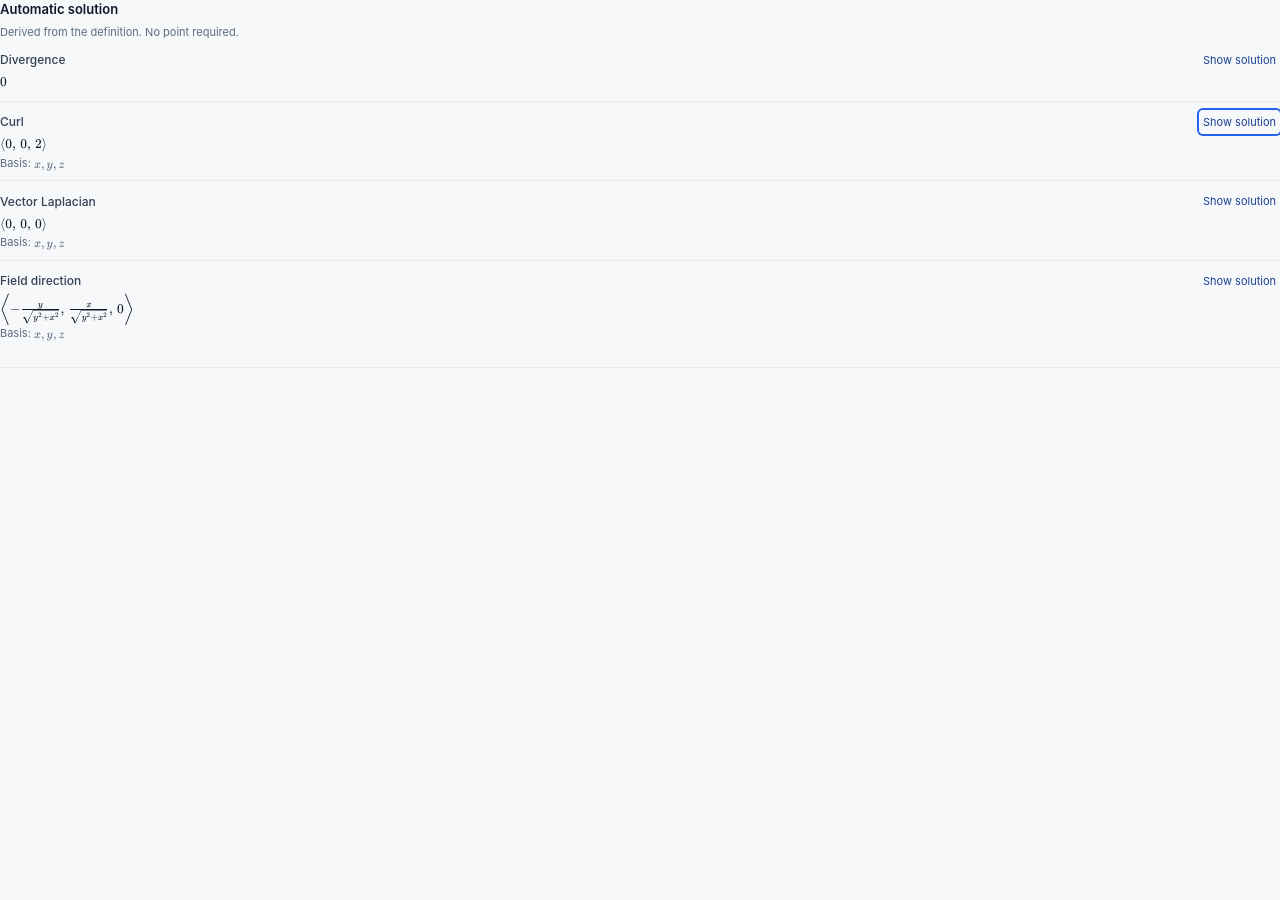
Test: automatic solution UI › solves a vector automatically without point inputs and opens derivation steps
The width and height of the screenshot is (1280, 900).
expect the element named "<0, 0, 2>" is shown: met, box [0,135,47,155]
Click the button with aria-label "Show curl solution". click: point(1240, 122)
box: [1199,110,1279,134]
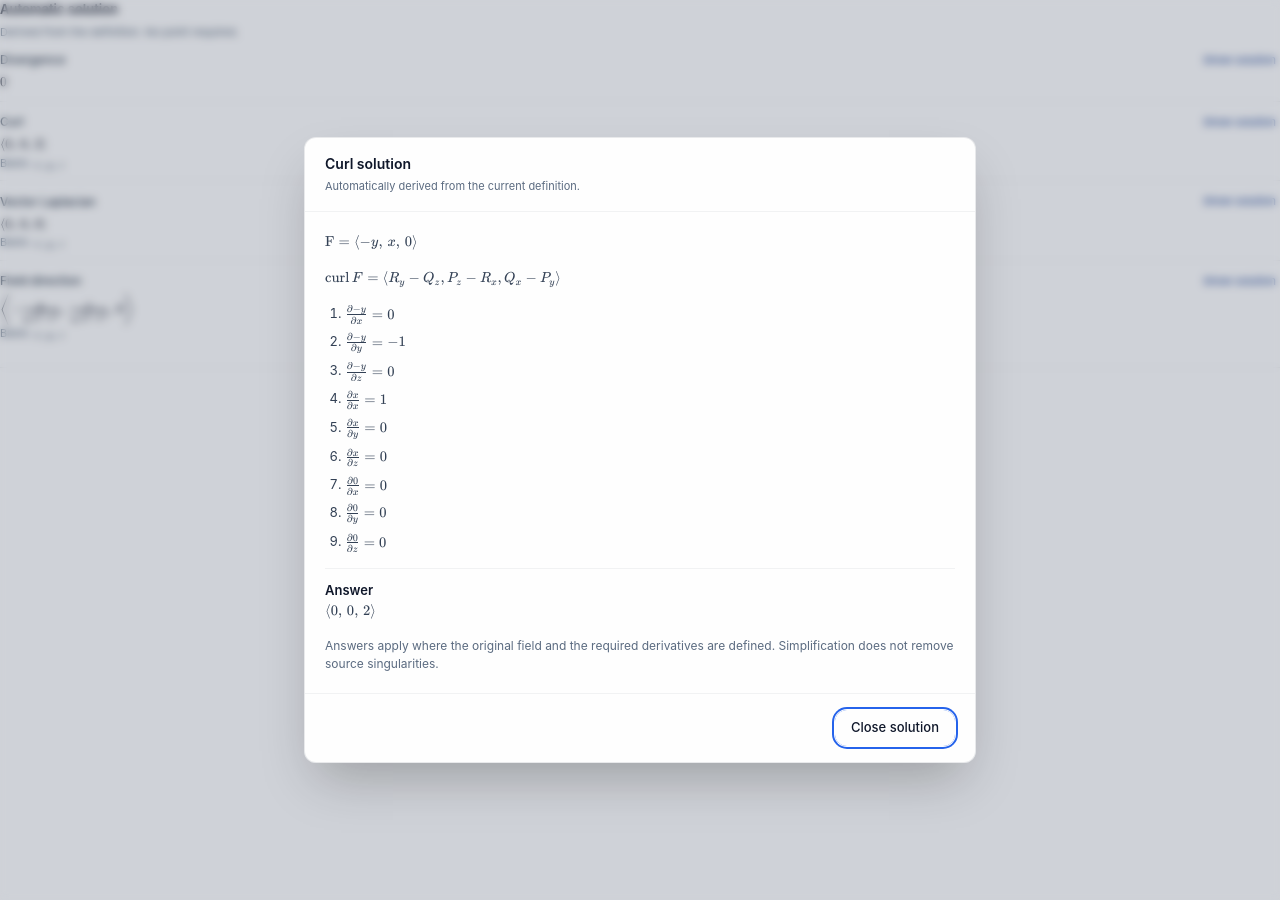
expect the dialog "Curl solution" is shown: met, box [304,137,976,763]
expect the element named "<0, 0, 2>" is shown: met, box [325,601,376,621]
Press Escape
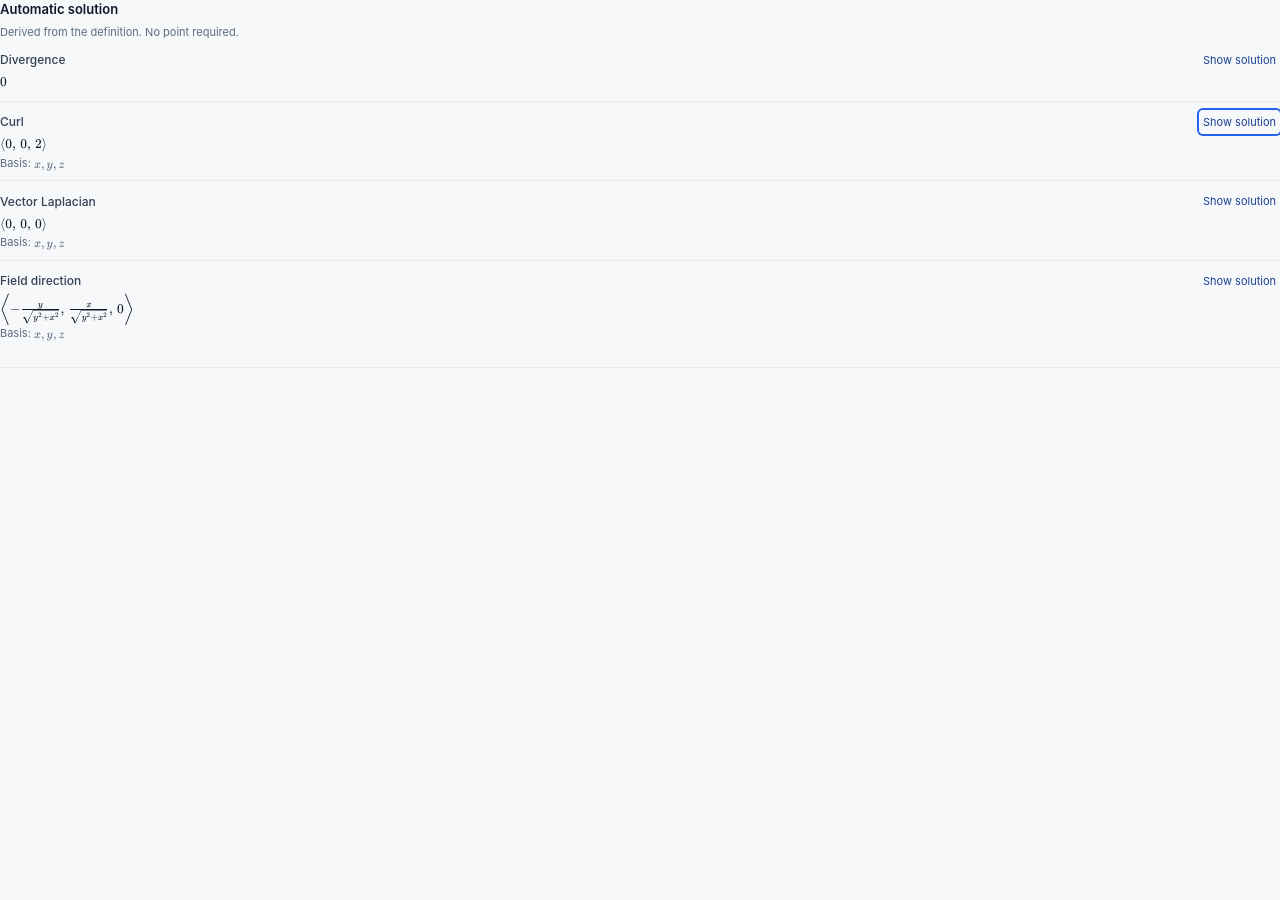
expect the dialog is gone: met
